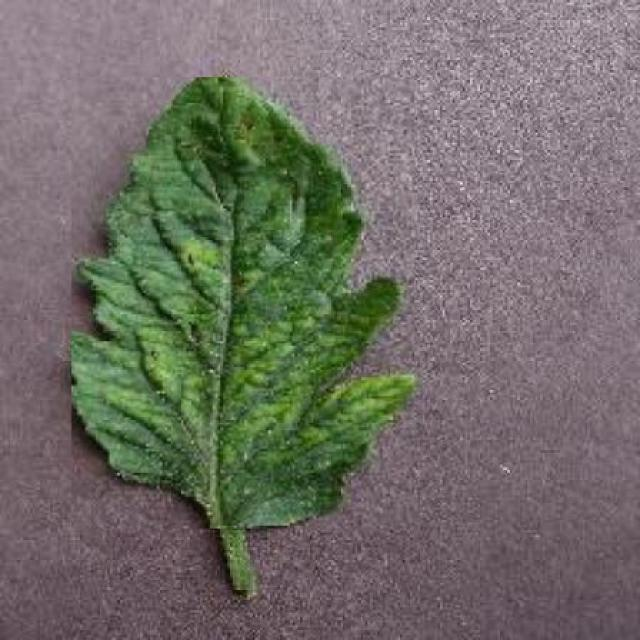Mosaic Virus: (72, 77, 414, 529)
